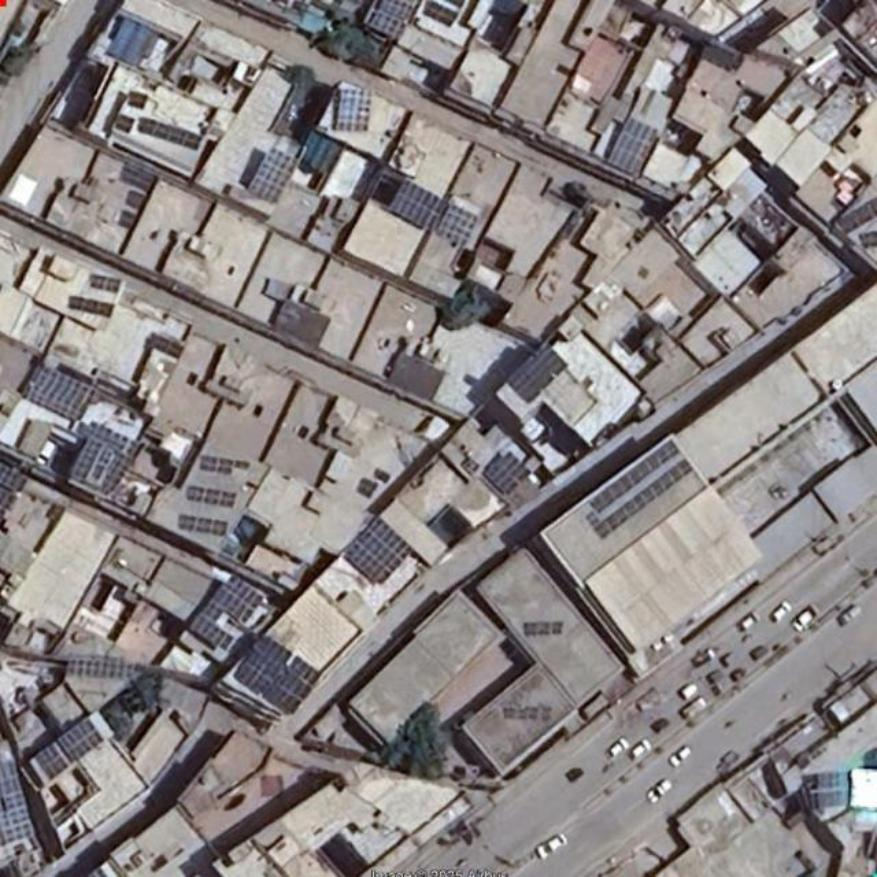Solarpanel: (595, 460, 693, 539), (238, 636, 322, 715), (591, 440, 680, 510), (190, 574, 264, 651), (68, 420, 139, 499), (343, 519, 409, 587), (36, 719, 102, 781), (25, 369, 95, 421), (0, 762, 37, 845), (250, 145, 300, 206), (607, 115, 658, 174), (390, 182, 445, 230), (506, 344, 561, 392), (486, 450, 532, 492), (138, 120, 200, 151), (367, 0, 414, 40), (0, 464, 32, 520), (436, 204, 478, 246), (334, 89, 368, 129), (121, 165, 156, 196), (178, 515, 227, 537), (186, 486, 235, 507), (67, 295, 113, 317), (425, 1, 458, 25), (200, 455, 233, 472), (524, 621, 564, 635), (91, 276, 118, 294), (128, 91, 148, 109), (116, 113, 133, 132)
